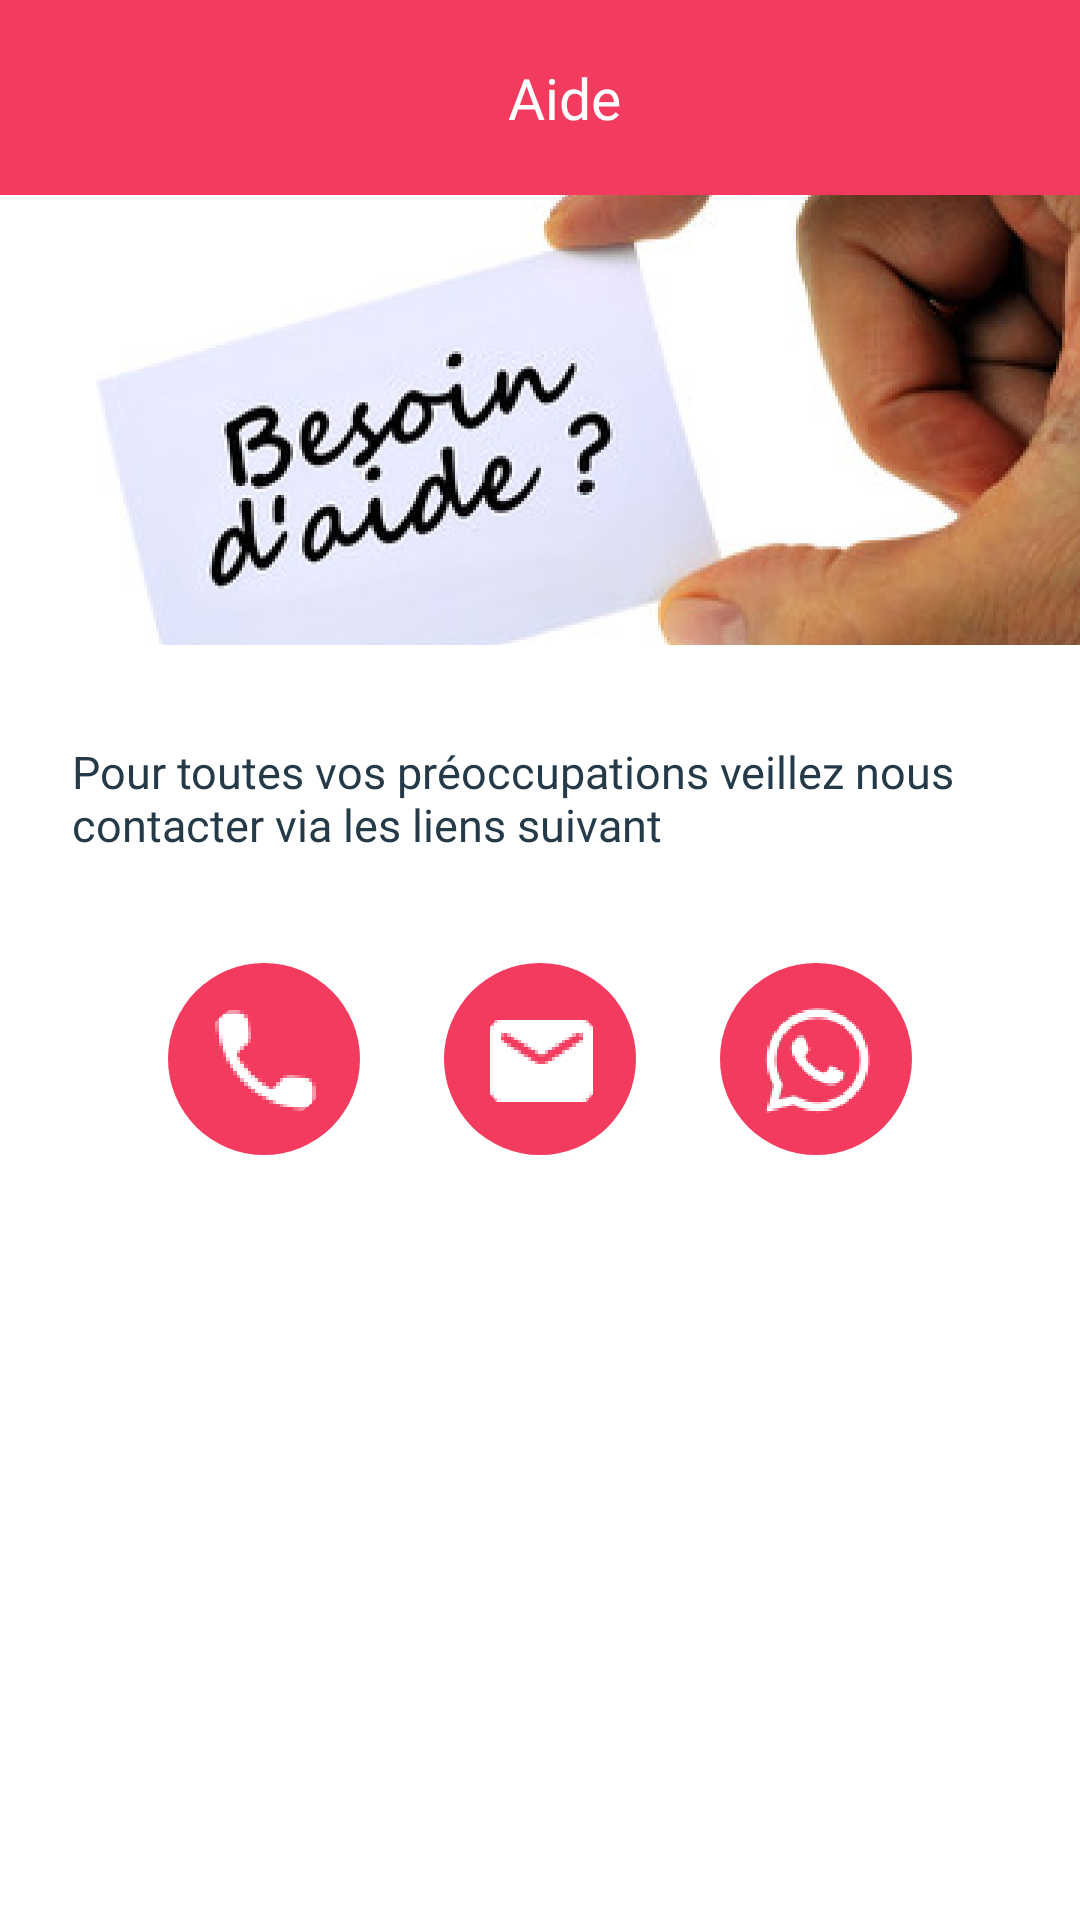

Where to tap for icons on this 1080px x 1920px app screen, as [x,y]:
callgroupe: [264,1059]
messagegroupe: [540,1059]
